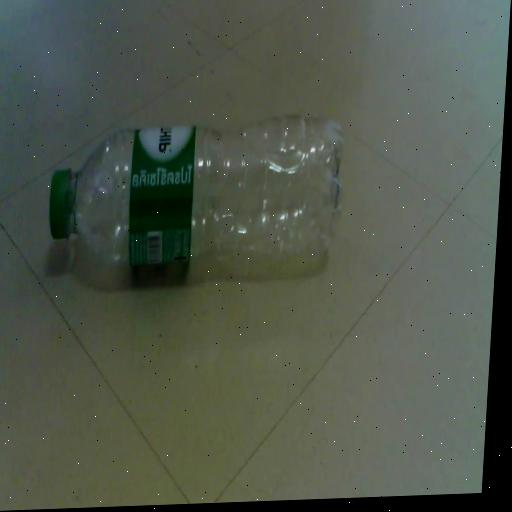bottle: (39, 85, 361, 312)
